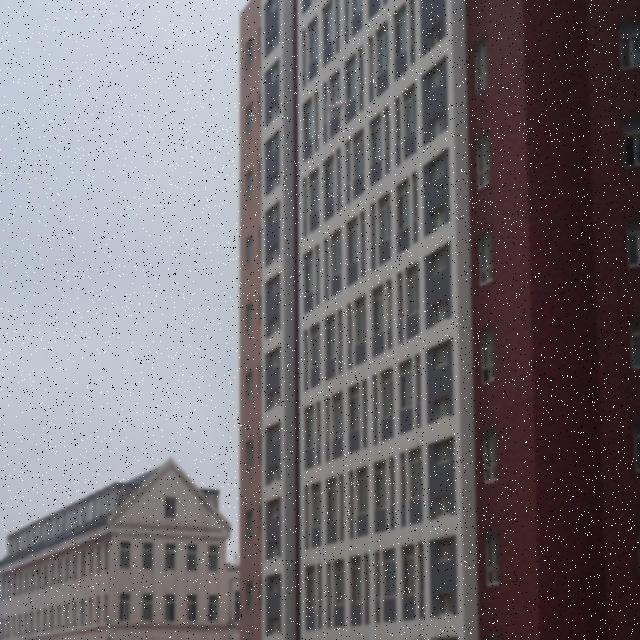UAV: (322, 98, 354, 121)
